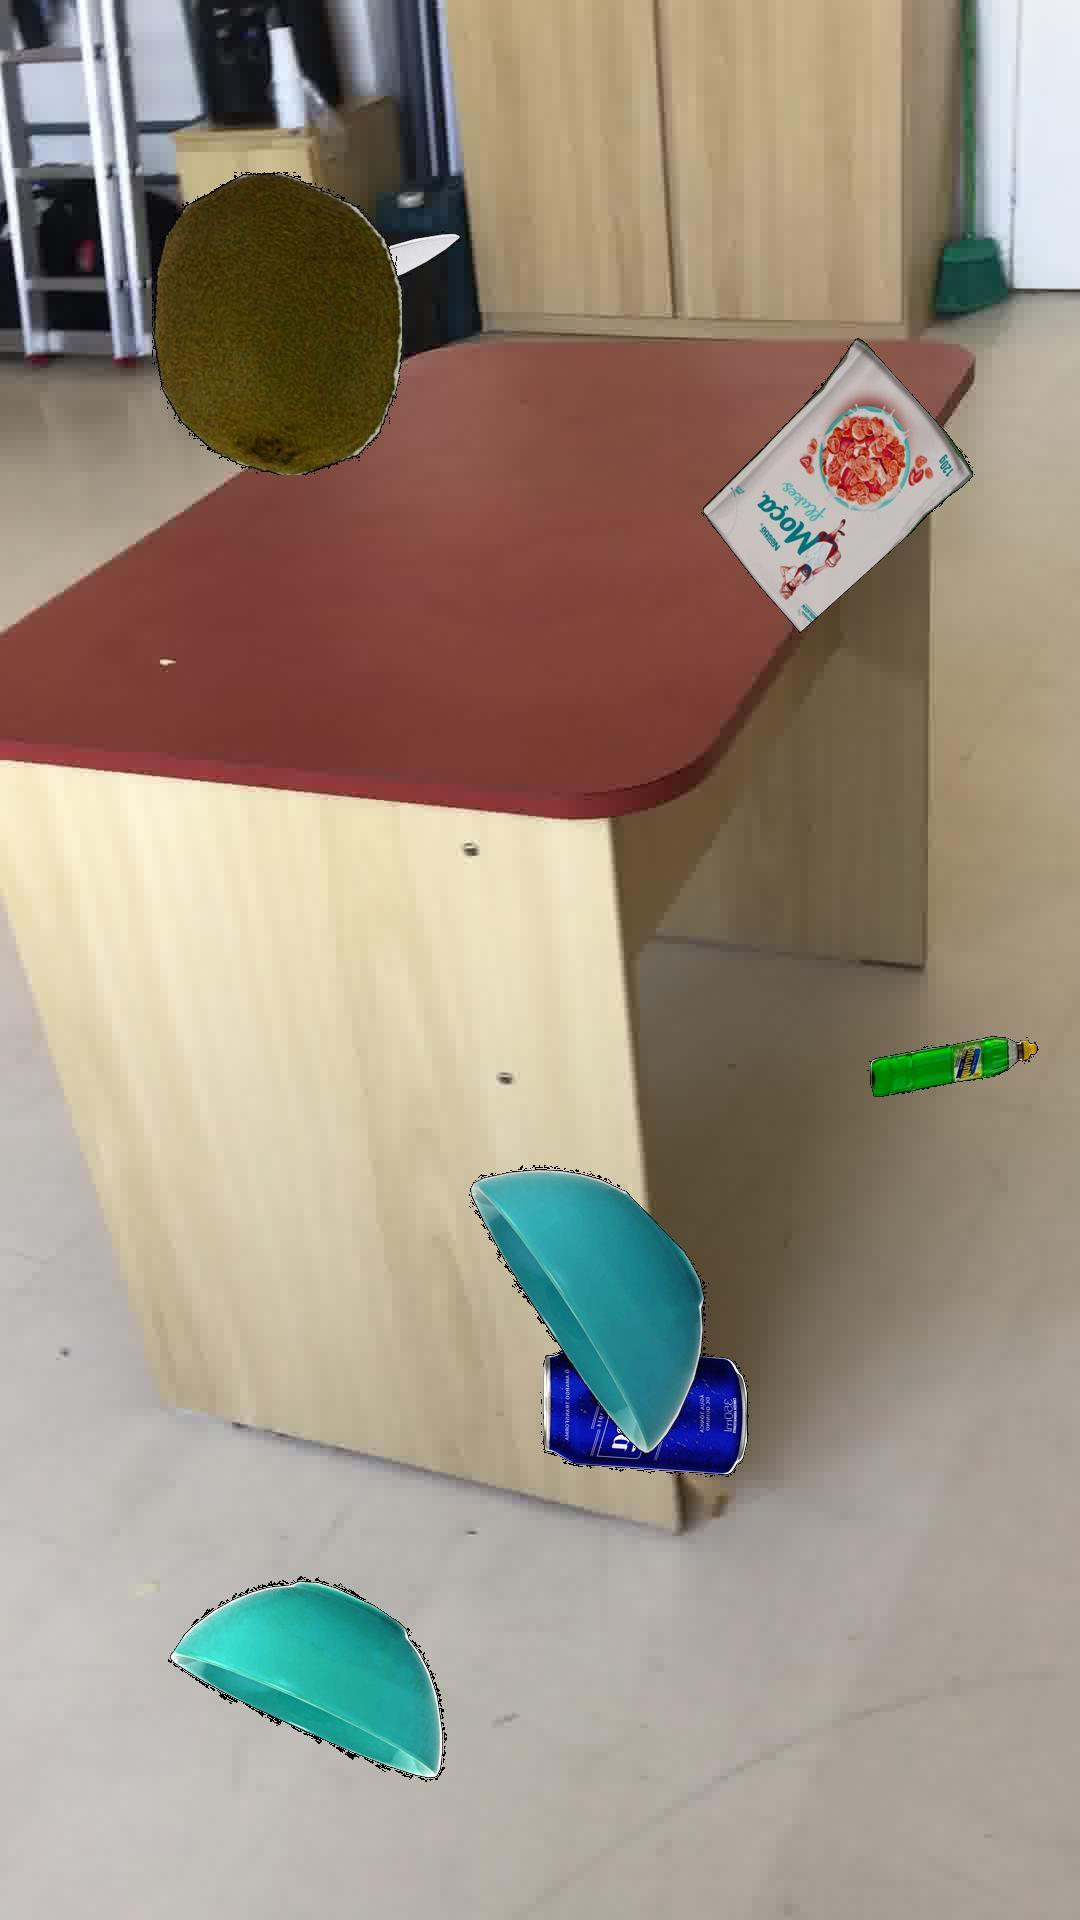bowl: (468, 1163, 705, 1456), (166, 1575, 444, 1779)
cleaner: (868, 1034, 1038, 1096)
corn flakes: (702, 336, 972, 632)
kiwi: (150, 170, 401, 473)
knife: (388, 232, 459, 274)
tonic: (541, 1350, 748, 1474)
